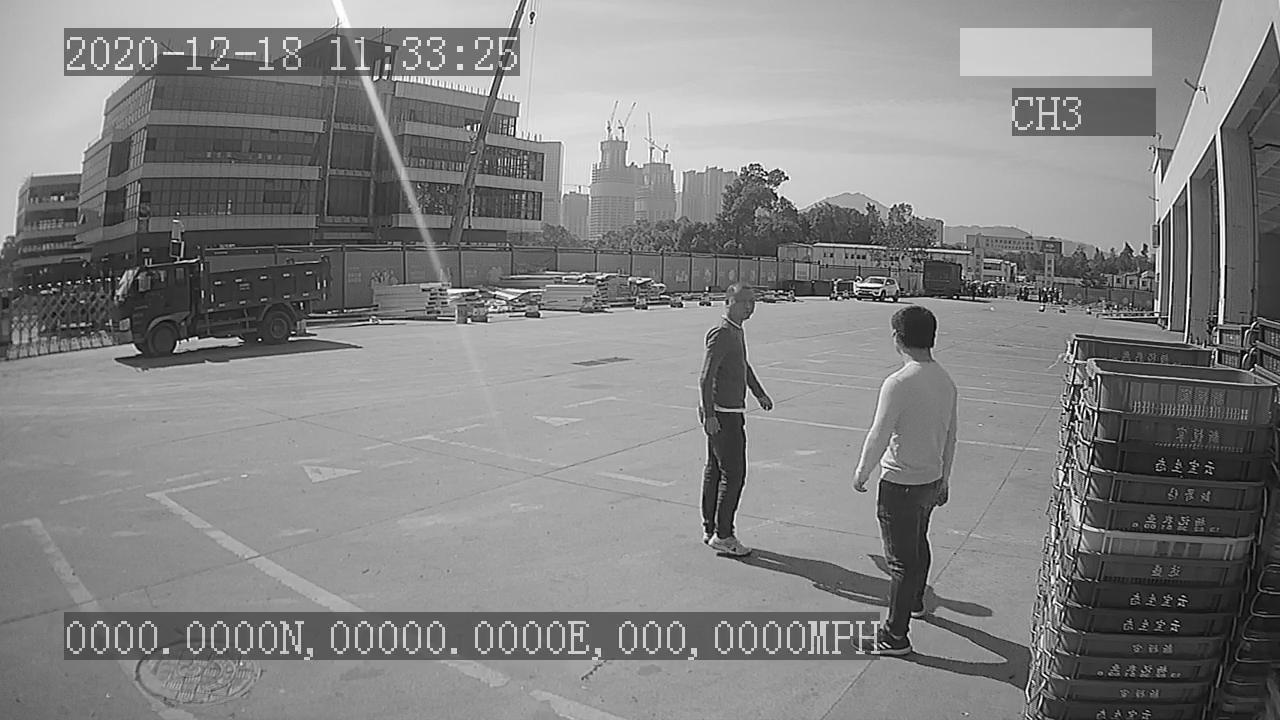person: (688, 277, 776, 558)
